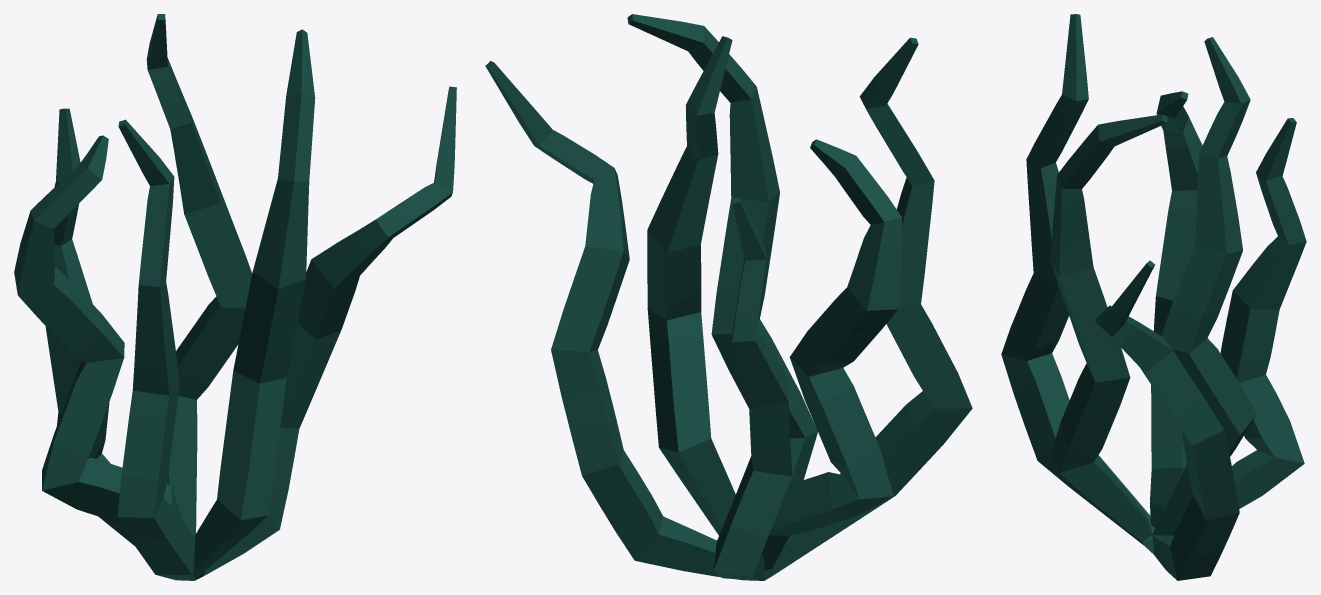
File: AlgaBIG.glb
The picture shows the model from 3 angles, left to right: view 1: azimuth 30°, elevation 25°; view 2: azimuth 150°, elevation 25°; view 3: azimuth 270°, elevation 25°; orthographic projection. The views are drawn at different scales.
Visible parts, largest first — view 1: Vert; view 2: Vert; view 3: Vert.
Boxes of the visible parts, left/top/right/bottom form: Vert: left=14, top=14, right=456, bottom=580; Vert: left=485, top=14, right=972, bottom=580; Vert: left=1001, top=14, right=1306, bottom=580.
Size of the model in its own units: 1.09 by 1.36 by 0.7333.
